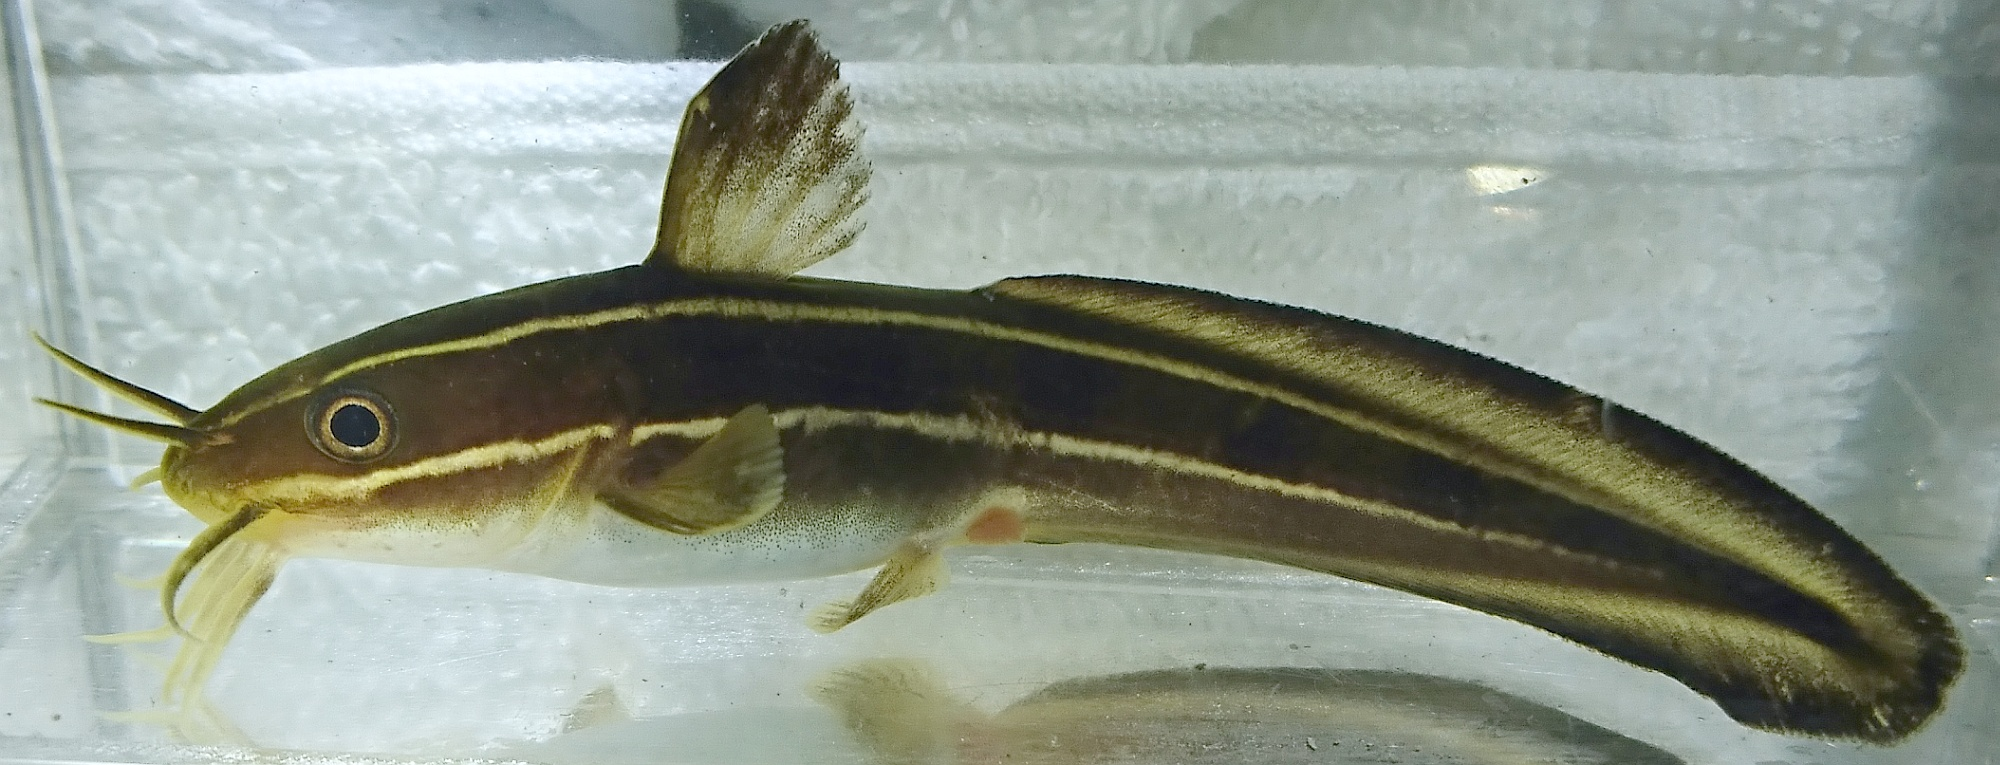gonzui: (125, 68, 1981, 687)
